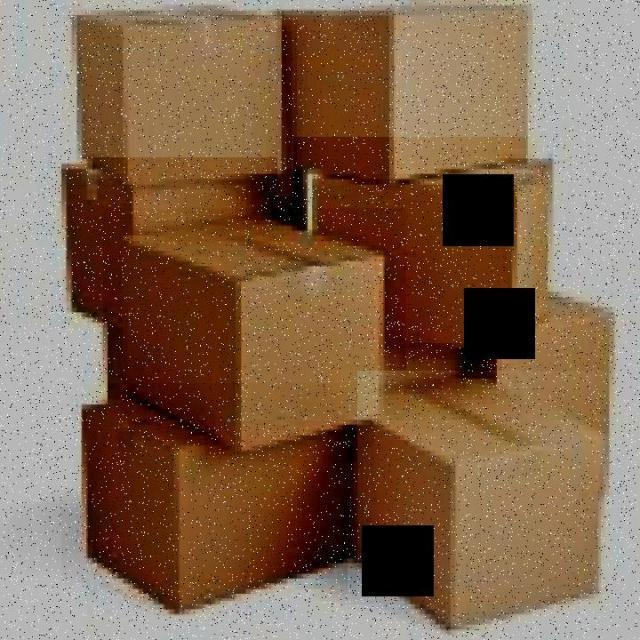box: (103, 208, 406, 461), (61, 383, 348, 631), (357, 370, 618, 626), (294, 137, 570, 360), (50, 157, 278, 390), (284, 4, 558, 194), (73, 15, 294, 196), (487, 300, 621, 546)
